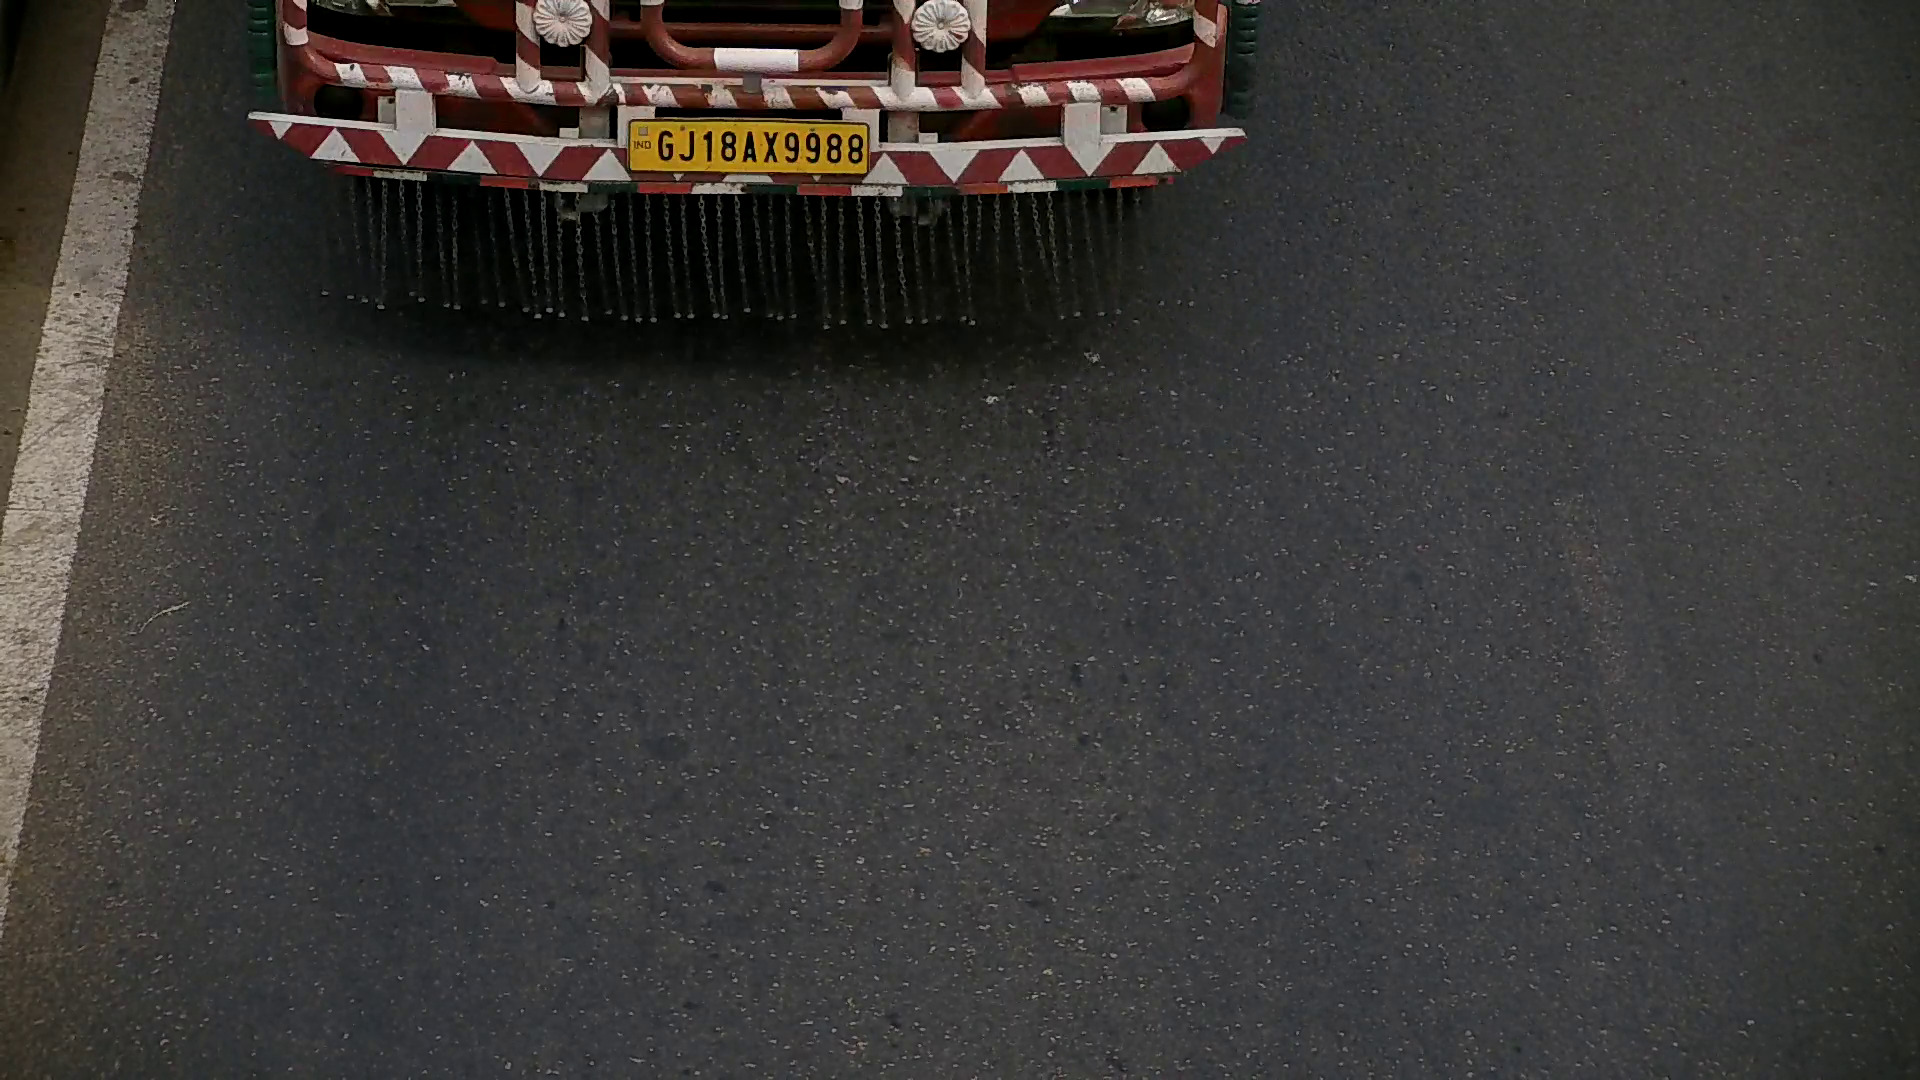numberplate: (622, 113, 876, 169)
